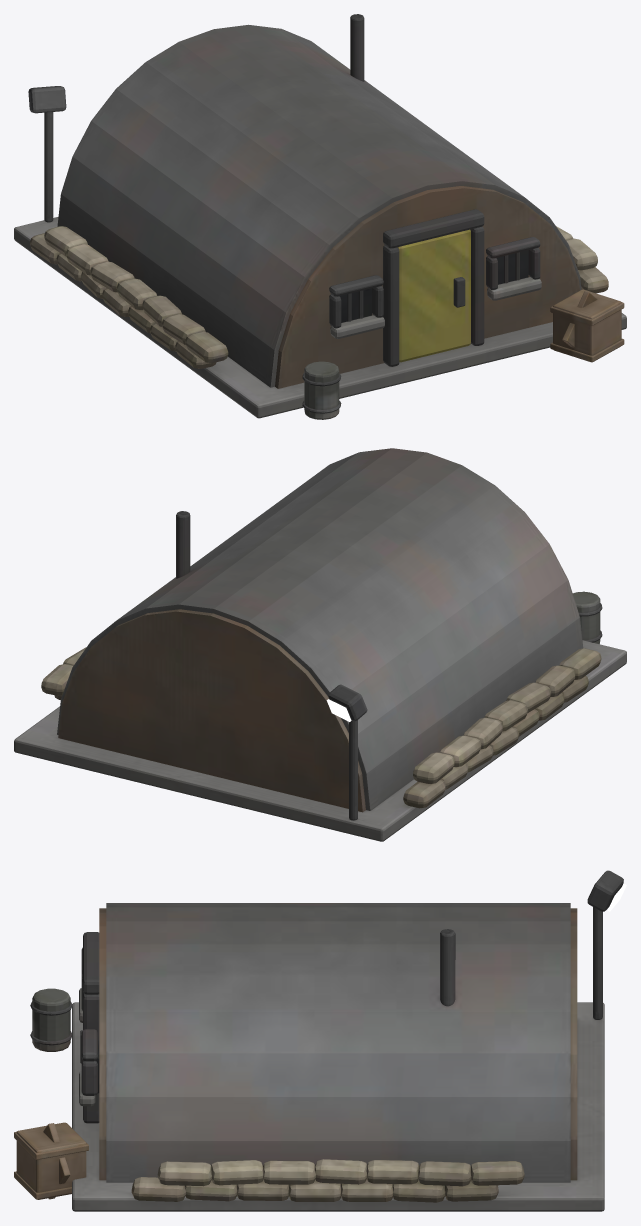
File: base-barracks.glb
3 renders of one model, top to bottom at view 1: azimuth 30°, elevation 25°; view 2: azimuth 150°, elevation 25°; view 3: azimuth 270°, elevation 25°, orthographic. The views are drawn at different scales.
Visible parts, largest first — view 1: base_barracks; view 2: base_barracks; view 3: base_barracks.
Part boxes in pixels (x1,y1,x2,y2): base_barracks: (14,14,626,419); base_barracks: (14,448,626,841); base_barracks: (14,870,623,1211).
Bounding box in the file's own units: 1.84 × 0.9765 × 2.24.
2 materials, 1 textured.
